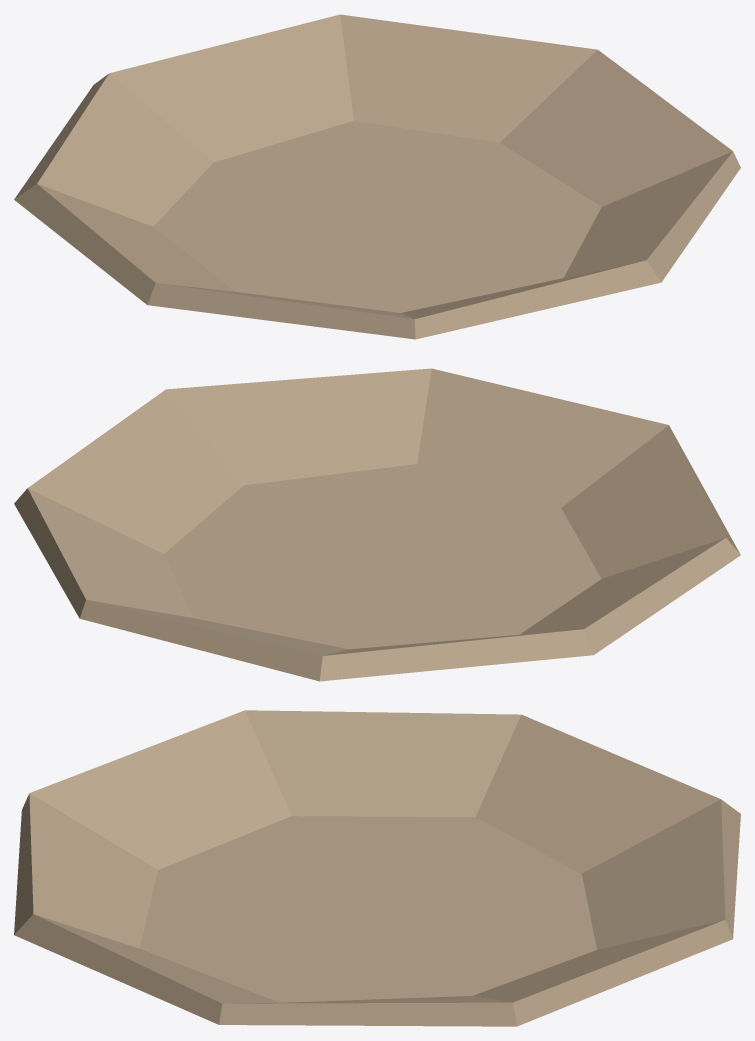
Rendered from SM_Plate_C.fbx.
The picture shows the model from 3 angles, top to bottom: view 1: azimuth 30°, elevation 25°; view 2: azimuth 150°, elevation 25°; view 3: azimuth 270°, elevation 25°; orthographic projection. The views are drawn at different scales.
Visible parts, largest first — view 1: SM_Plates_C; view 2: SM_Plates_C; view 3: SM_Plates_C.
Part boxes in pixels (left/top/right/bottom): SM_Plates_C: left=14, top=14, right=740, bottom=339; SM_Plates_C: left=14, top=368, right=740, bottom=681; SM_Plates_C: left=14, top=710, right=740, bottom=1026.
Bounding box in the file's own units: 35.42 × 4.09 × 35.41.
